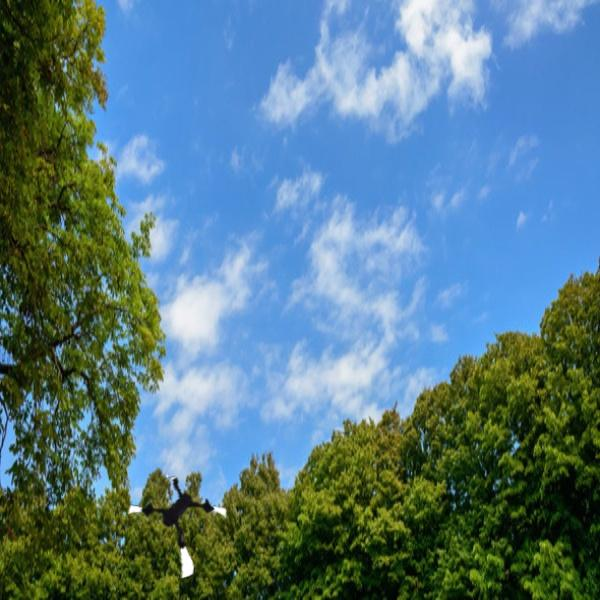drone: (121, 470, 235, 584)
